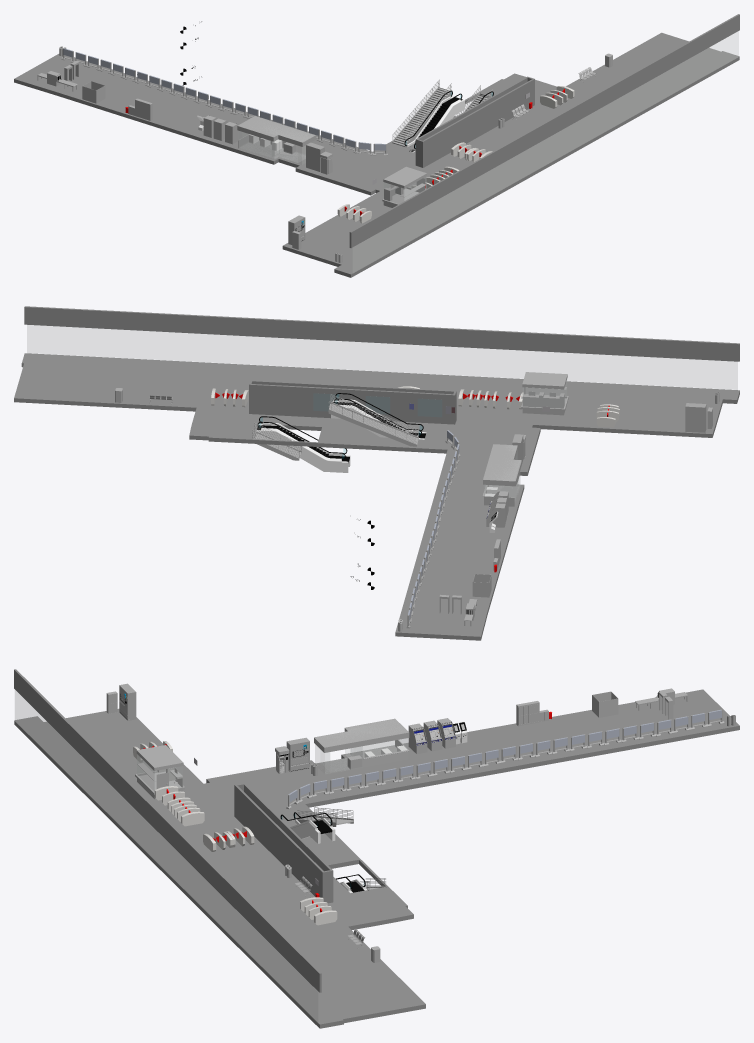
3 renders of one model, top to bottom at view 1: azimuth 30°, elevation 25°; view 2: azimuth 150°, elevation 25°; view 3: azimuth 270°, elevation 25°, orthographic. The views are drawn at different scales.
Visible parts, largest first — view 1: 常规楼板 - 400mm [220876], 玻璃 [214615], 常规 - 200mm [221403], 常规 - 200mm [220366], 乘客服务中心 [253868] (×2), 指示吊牌 [249922] (×2), 楼梯 [238178], 常规 - 200mm [220550], 治安亭 [254723]; view 2: 常规楼板 - 400mm [220876], 玻璃 [214615], 常规 - 200mm [221403], 常规 - 200mm [220550], 指示吊牌 [249922] (×2), 乘客服务中心 [253868], 2.75 m Height [233364] (×2), 常规 - 200mm [220366], 自动贩卖机 [240225], 楼梯 [238178], 900mm 圆管 [238446], 900mm 圆管 [238442]; view 3: 常规楼板 - 400mm [220876], 玻璃 [214615], 常规 - 200mm [221403], 乘客服务中心 [253868] (×2), 常规 - 200mm [220366], 指示吊牌 [249922] (×2), 常规 - 200mm [220550], 治安亭 [254723].
Part boxes in pixels (box(x1,y1,x2,y2)): 常规楼板 - 400mm [220876]: box(14, 32, 739, 277); 玻璃 [214615]: box(352, 31, 738, 273); 常规 - 200mm [221403]: box(349, 14, 739, 247); 常规 - 200mm [220366]: box(423, 78, 534, 167); 乘客服务中心 [253868] (×2): box(237, 116, 315, 162); 指示吊牌 [249922] (×2): box(382, 166, 426, 207); 楼梯 [238178]: box(392, 87, 449, 146); 常规 - 200mm [220550]: box(417, 77, 527, 140); 治安亭 [254723]: box(82, 81, 105, 103); 常规楼板 - 400mm [220876]: box(14, 353, 739, 640); 玻璃 [214615]: box(27, 325, 737, 389); 常规 - 200mm [221403]: box(24, 306, 739, 361); 常规 - 200mm [220550]: box(251, 384, 452, 424); 指示吊牌 [249922] (×2): box(521, 372, 568, 415); 乘客服务中心 [253868]: box(482, 444, 521, 506); 2.75 m Height [233364] (×2): box(256, 422, 348, 472); 常规 - 200mm [220366]: box(250, 380, 454, 394); 自动贩卖机 [240225]: box(685, 403, 706, 432); 楼梯 [238178]: box(328, 404, 418, 444); 900mm 圆管 [238446]: box(329, 402, 416, 443); 900mm 圆管 [238442]: box(331, 395, 418, 436); 常规楼板 - 400mm [220876]: box(14, 689, 739, 1028); 玻璃 [214615]: box(15, 690, 318, 1022); 常规 - 200mm [221403]: box(14, 669, 321, 992); 乘客服务中心 [253868] (×2): box(314, 718, 409, 773); 常规 - 200mm [220366]: box(235, 785, 324, 901); 指示吊牌 [249922] (×2): box(135, 745, 184, 799); 常规 - 200mm [220550]: box(244, 784, 332, 871); 治安亭 [254723]: box(592, 691, 618, 717).
Bounding box in the file's own units: 67.93 × 9.17 × 62.16.
